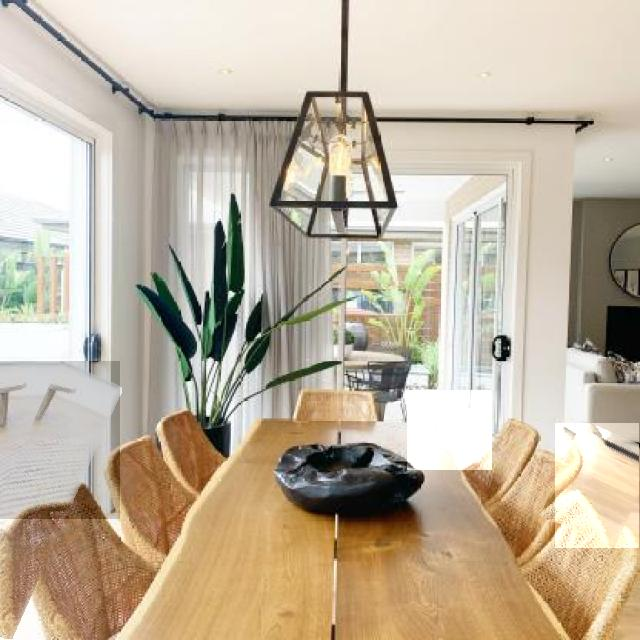floor: (0, 362, 120, 519), (556, 424, 640, 548), (407, 390, 492, 470), (385, 404, 404, 421)
